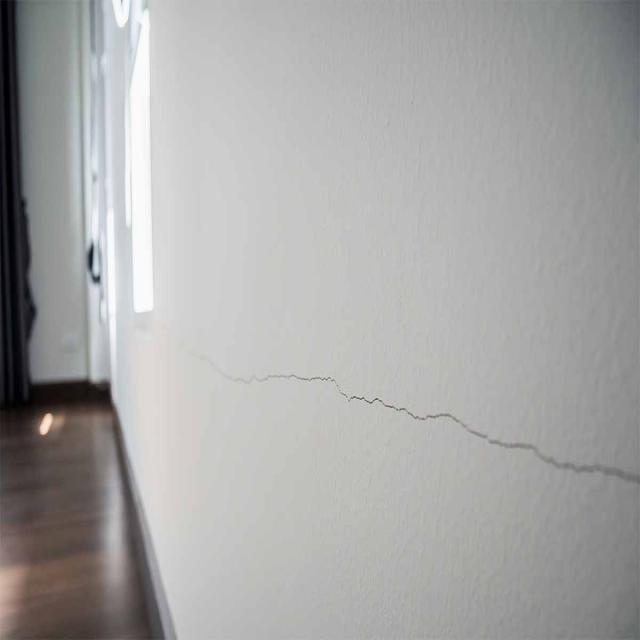Crack: (179, 346, 640, 492)
